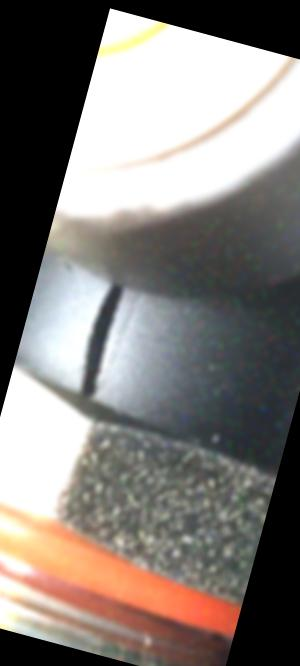craze: (73, 276, 127, 399)
joint line: (104, 289, 141, 377)
